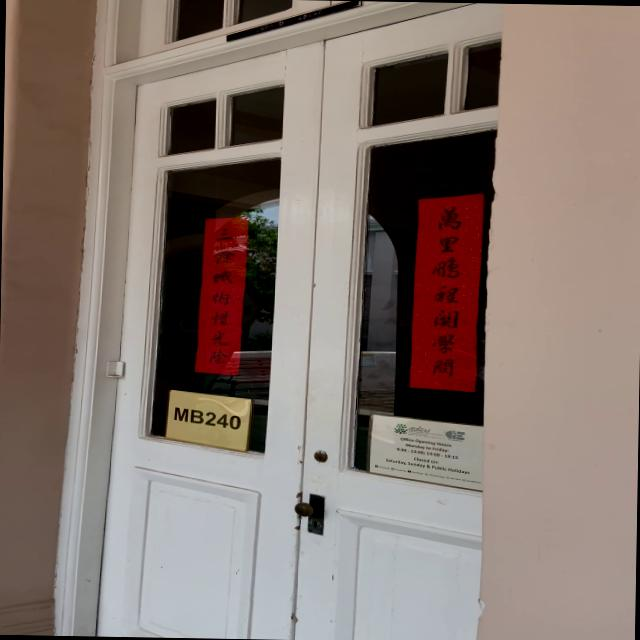room240: (162, 384, 252, 454)
